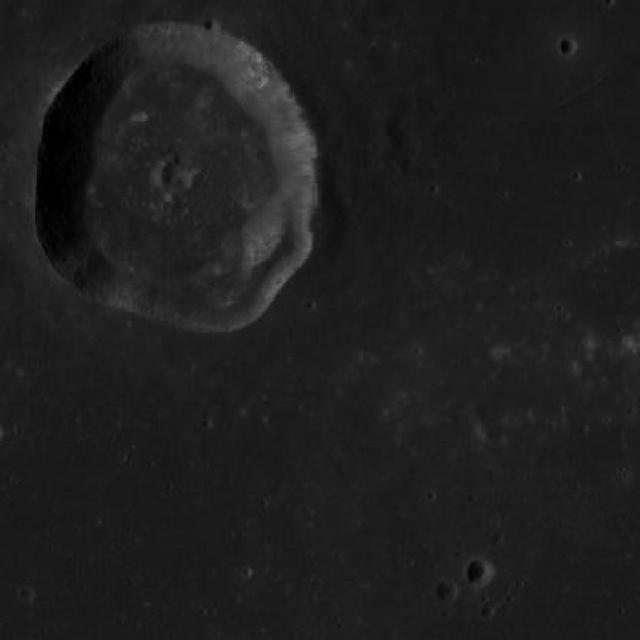crater: (28, 29, 324, 326), (466, 560, 492, 586), (434, 581, 458, 604), (558, 36, 576, 55), (478, 606, 496, 622)
